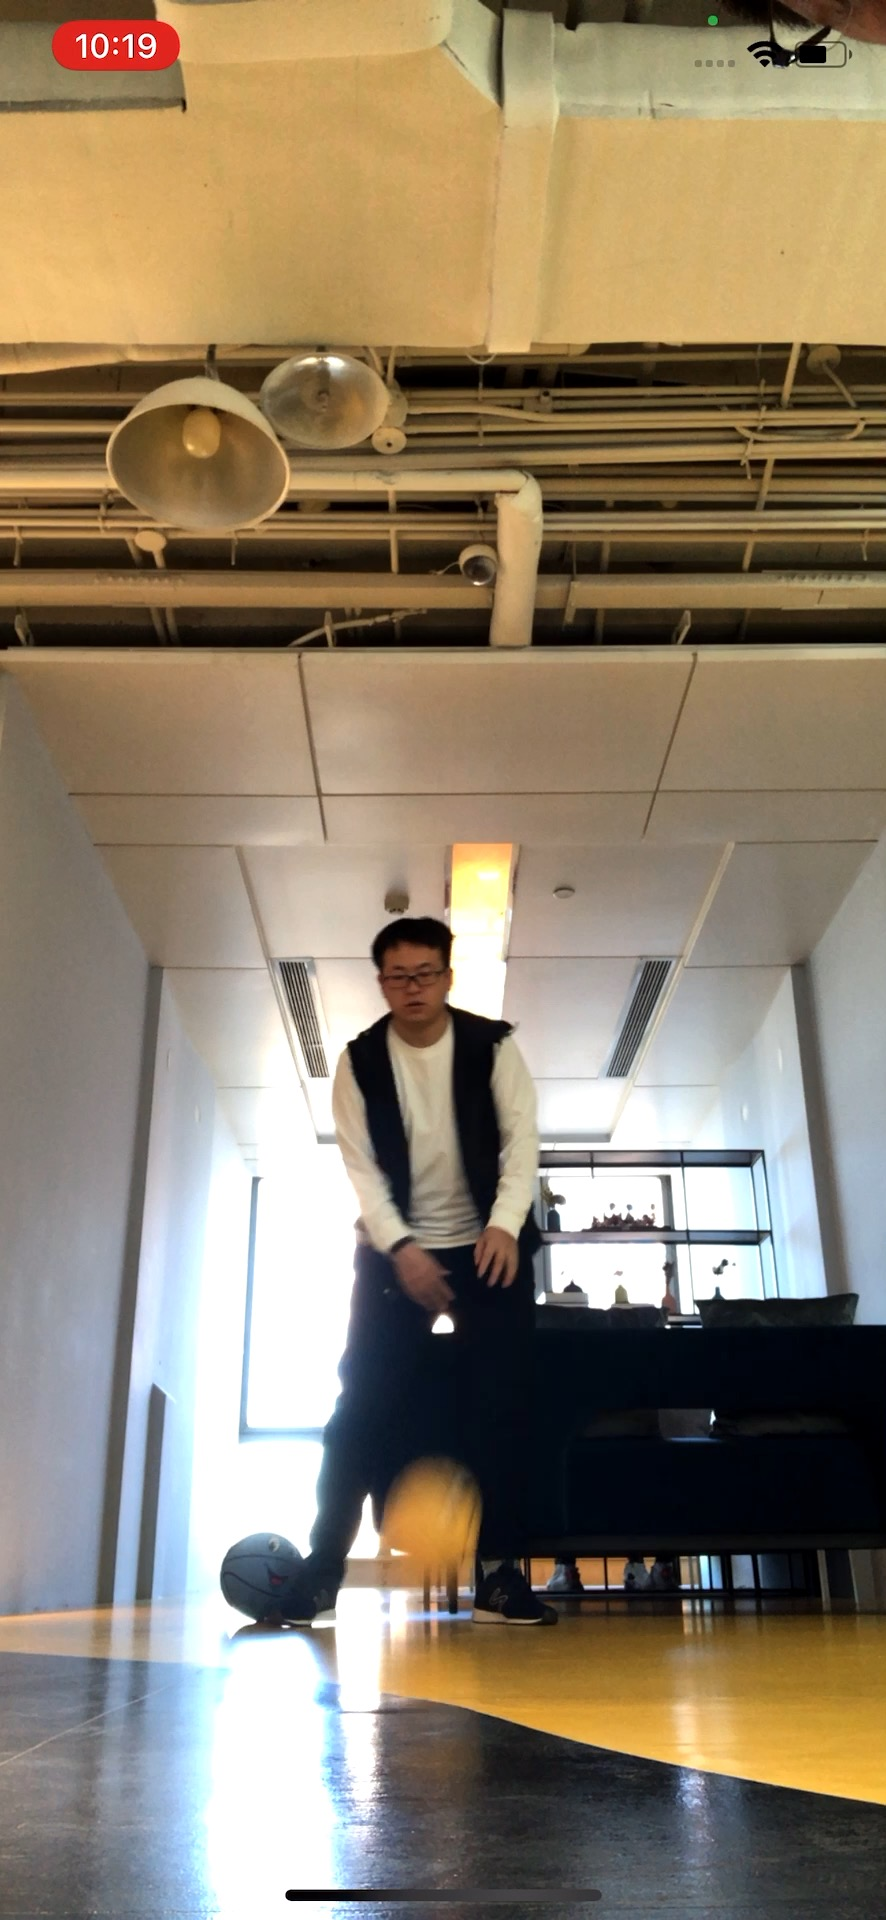ball: (381, 1461, 488, 1573), (223, 1533, 308, 1625)
